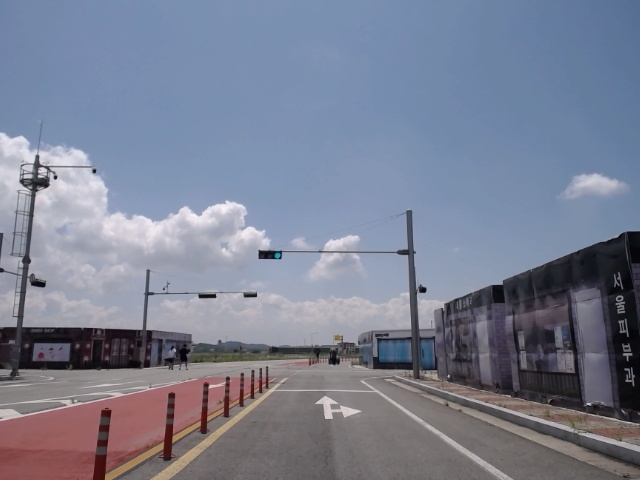green_3: (258, 249, 284, 260)
